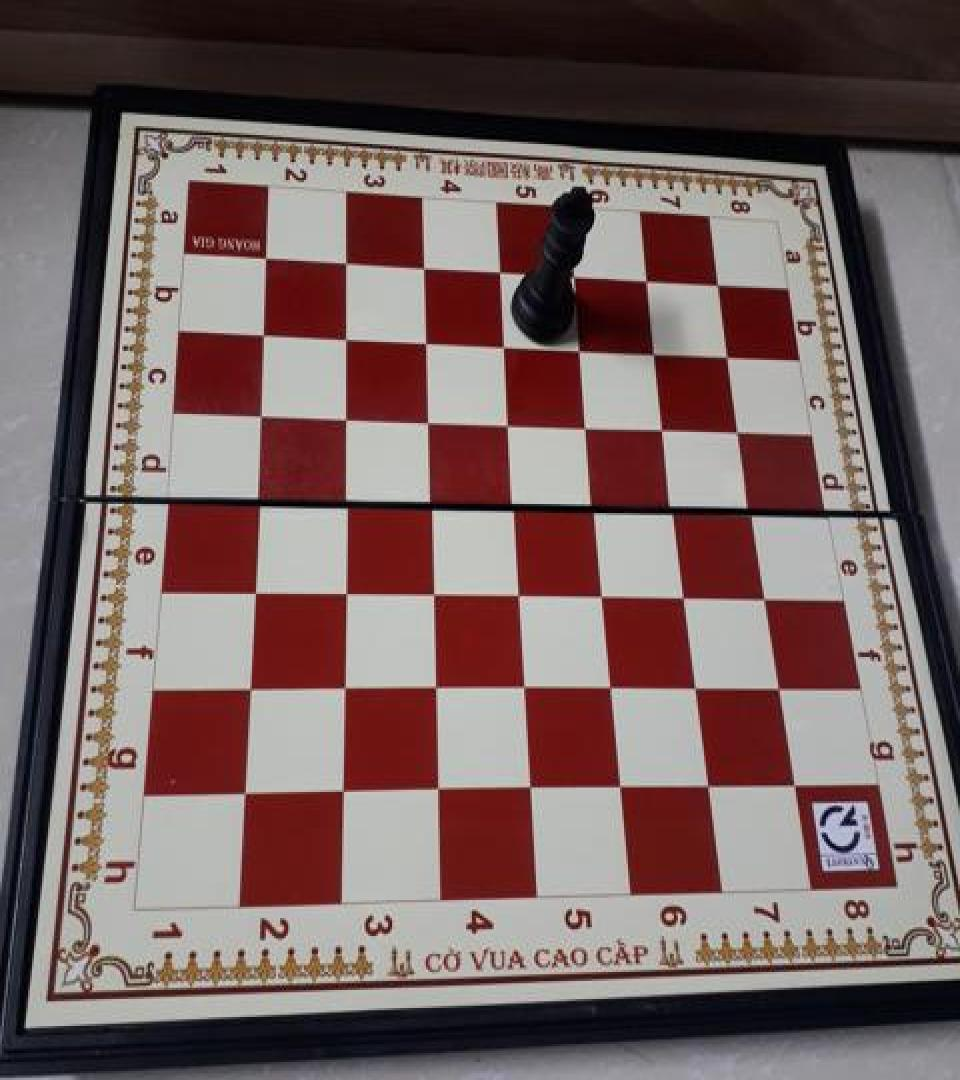xcorner: (328, 572, 360, 609), (762, 669, 794, 706), (679, 669, 711, 706), (513, 768, 545, 805), (421, 769, 453, 806), (326, 770, 358, 807), (703, 269, 735, 305), (631, 264, 663, 300), (558, 260, 590, 296), (484, 256, 516, 292), (408, 251, 440, 287), (330, 245, 362, 281), (250, 241, 282, 277), (713, 338, 745, 374), (640, 335, 672, 371), (565, 332, 597, 368), (488, 328, 520, 364), (410, 324, 442, 360), (329, 320, 361, 356), (247, 315, 279, 351), (724, 414, 756, 450), (649, 410, 681, 446), (571, 408, 603, 444), (492, 405, 524, 441), (412, 402, 444, 438), (329, 398, 361, 434), (244, 395, 276, 431), (736, 494, 768, 530), (658, 492, 690, 528), (579, 490, 611, 526), (497, 487, 529, 523), (414, 485, 446, 521), (328, 482, 360, 518), (241, 480, 273, 516), (749, 578, 781, 614), (668, 577, 700, 613), (586, 576, 618, 612), (502, 575, 534, 611), (416, 574, 448, 610), (237, 570, 269, 606), (594, 668, 626, 704), (508, 668, 540, 704), (418, 668, 450, 704), (327, 668, 359, 704), (233, 668, 265, 704), (776, 766, 808, 802), (691, 767, 723, 803), (603, 767, 635, 803), (229, 772, 261, 808)
